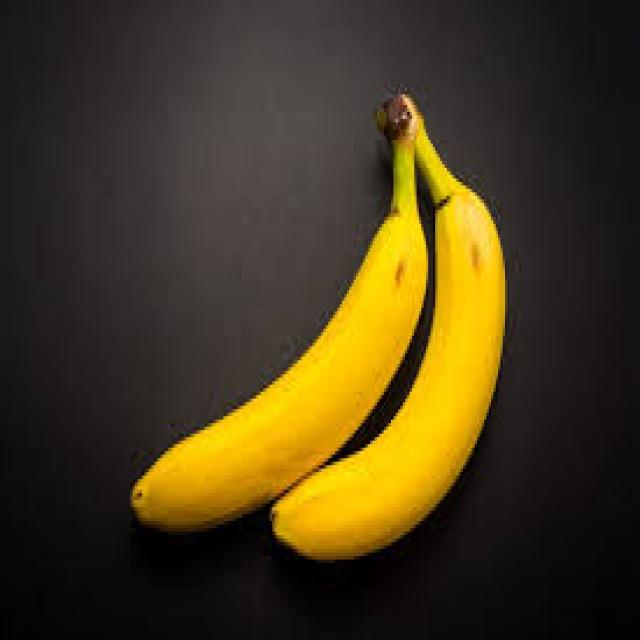banana: (128, 88, 505, 560)
